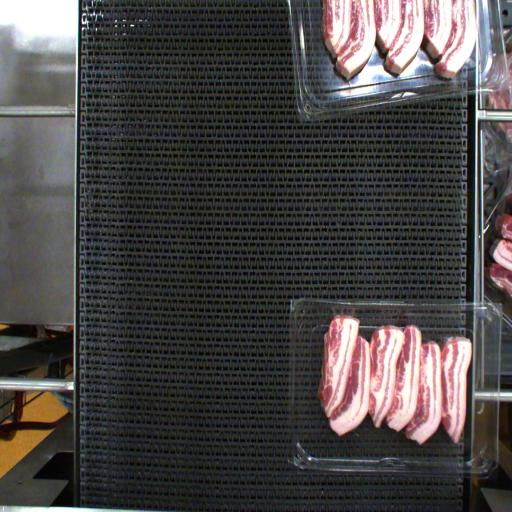packaging-error: (328, 298, 362, 324)
